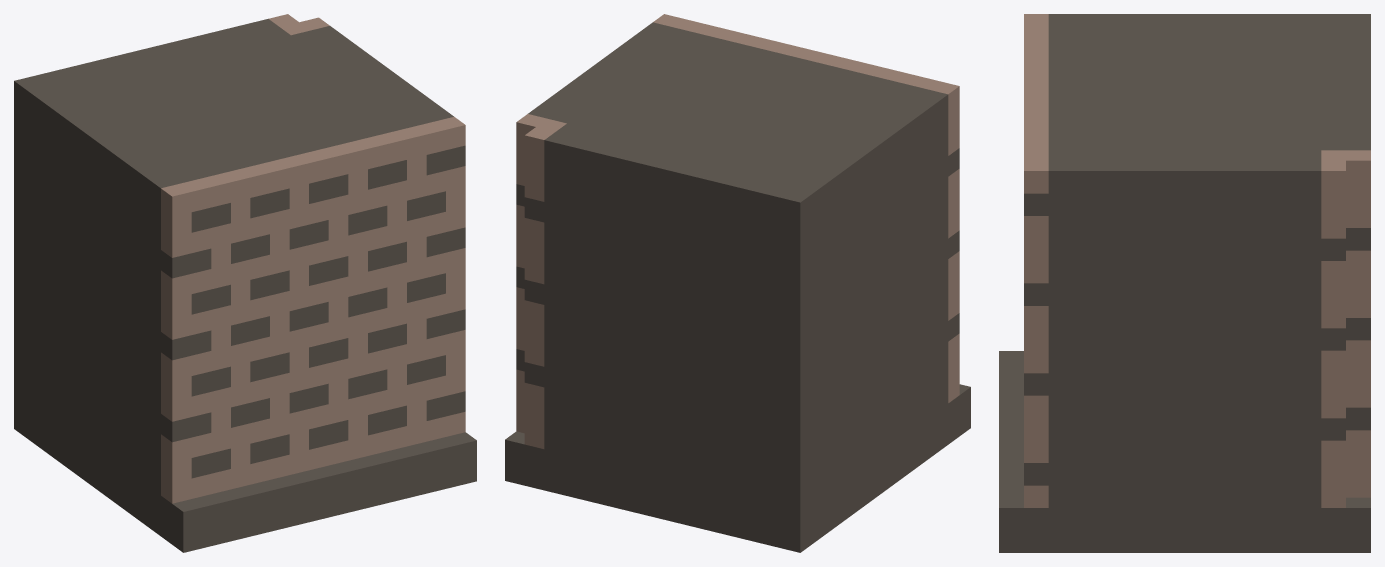
Rendered from dungeon_a_b_outer_wall_segment_d_flipped.obj.
The picture shows the model from 3 angles, left to right: view 1: azimuth 30°, elevation 25°; view 2: azimuth 150°, elevation 25°; view 3: azimuth 270°, elevation 25°; orthographic projection. The views are drawn at different scales.
Size of the model in its own units: 1.5 by 1.7 by 1.5.
1 material, 1 textured.
